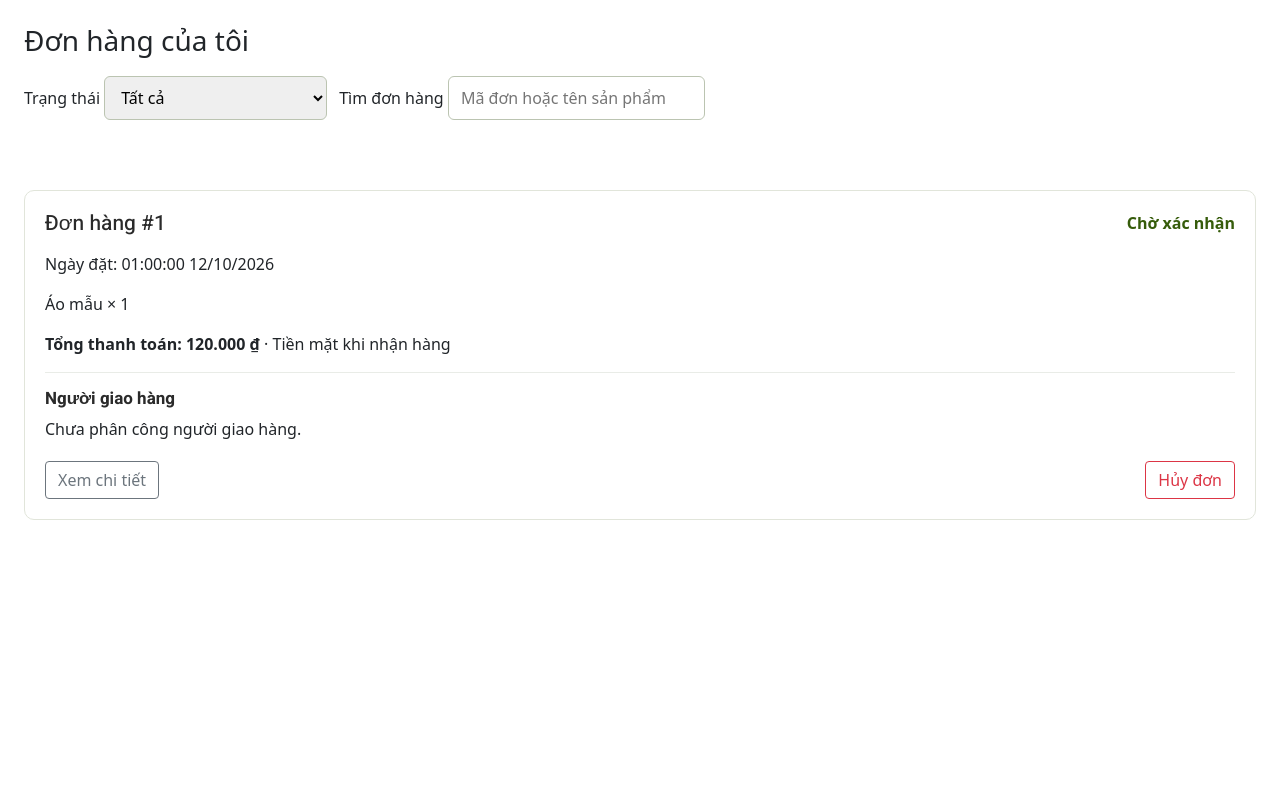
Test: a committed status is shown immediately without removing products while a fresh reload is pending
The width and height of the screenshot is (1280, 800).
Click the button "Hủy đơn" at (1190, 480), box 1145,461 -> 1235,499
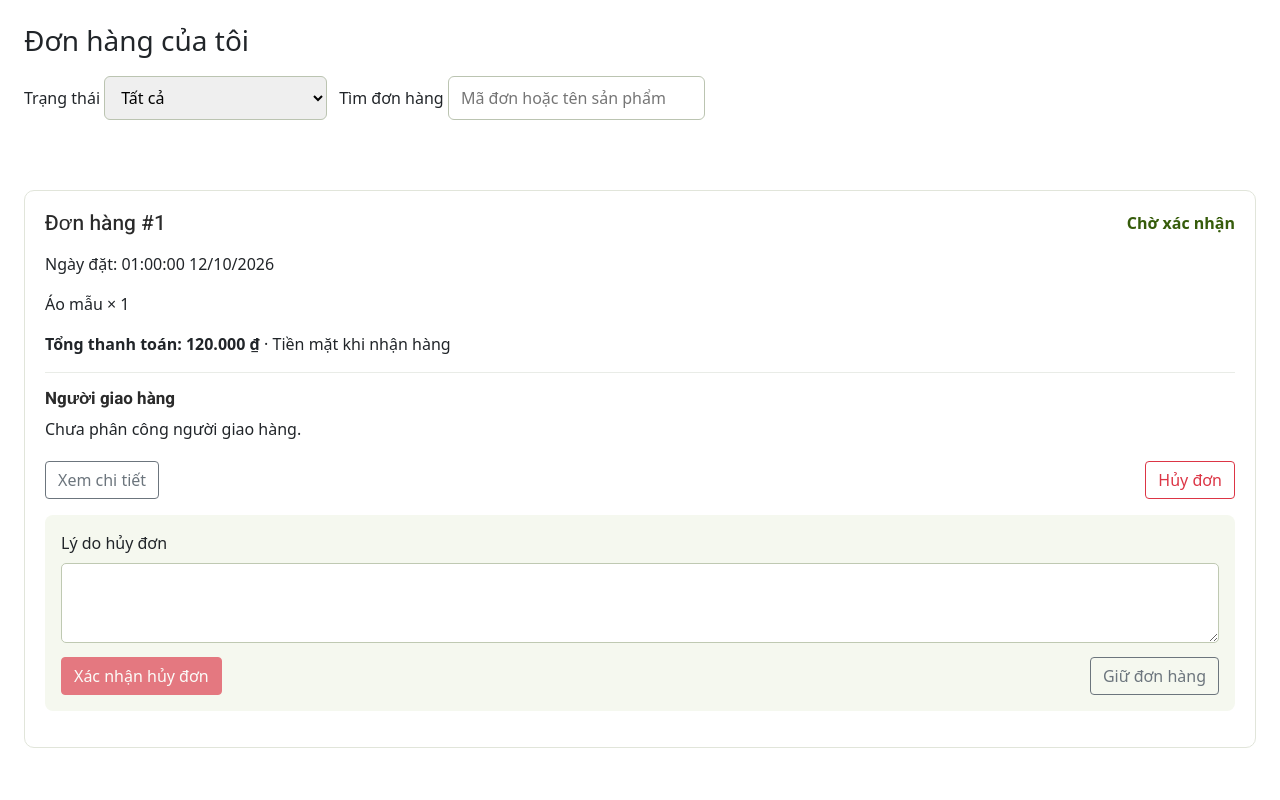
Type "Đặt nhầm sản phẩm" into the text box labelled "Lý do hủy đơn" at (640, 603), box 61,563 -> 1219,643
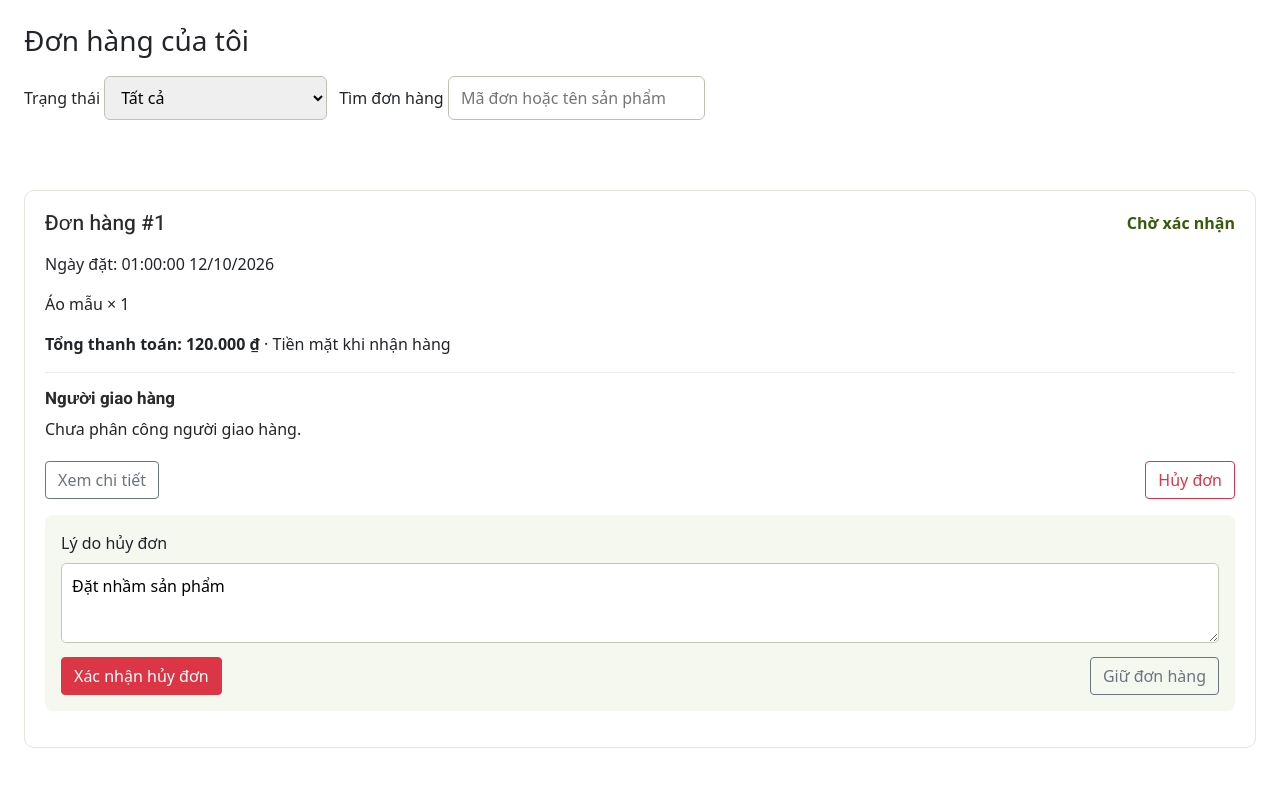
Click the button "Xác nhận hủy đơn" at (141, 676), box 61,657 -> 222,695
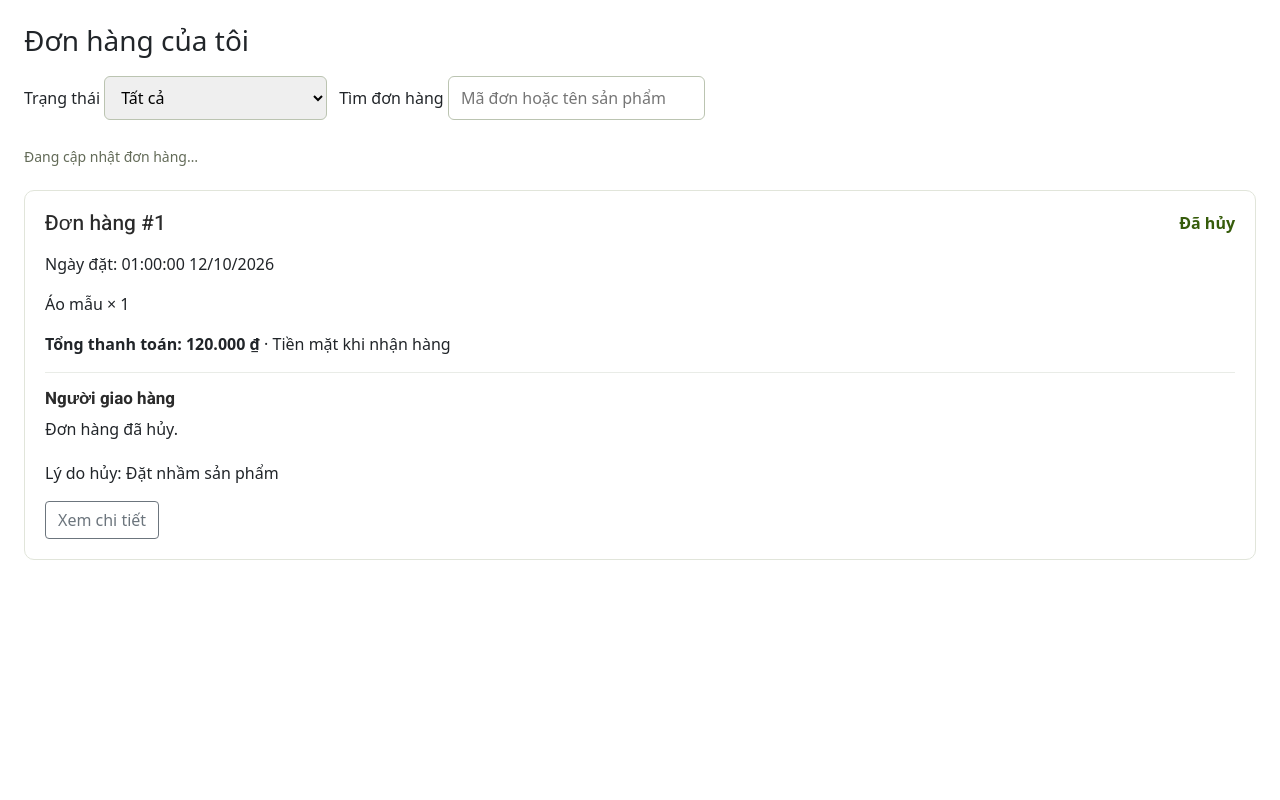
Expected: the text "Áo mẫu × 1" is shown, 45,293 -> 130,315
Now the text "Đã hủy" is shown, box 1179,211 -> 1235,235
